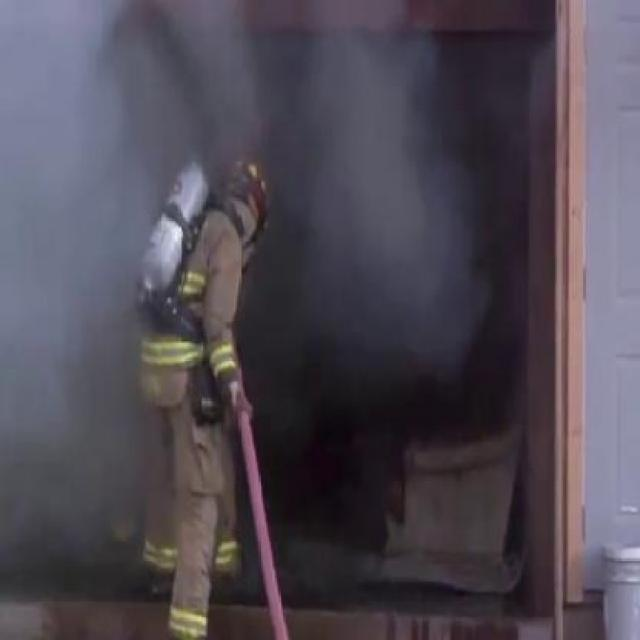smoke: (8, 18, 134, 534), (298, 55, 492, 340)
